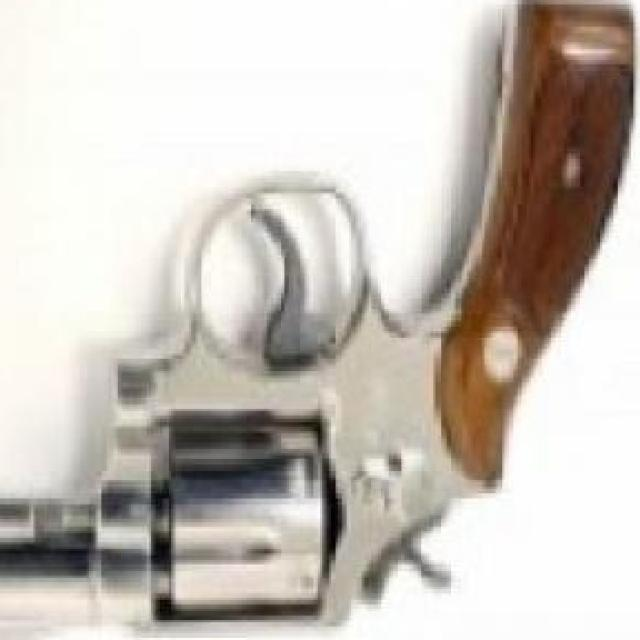pistol: (0, 4, 627, 640)
